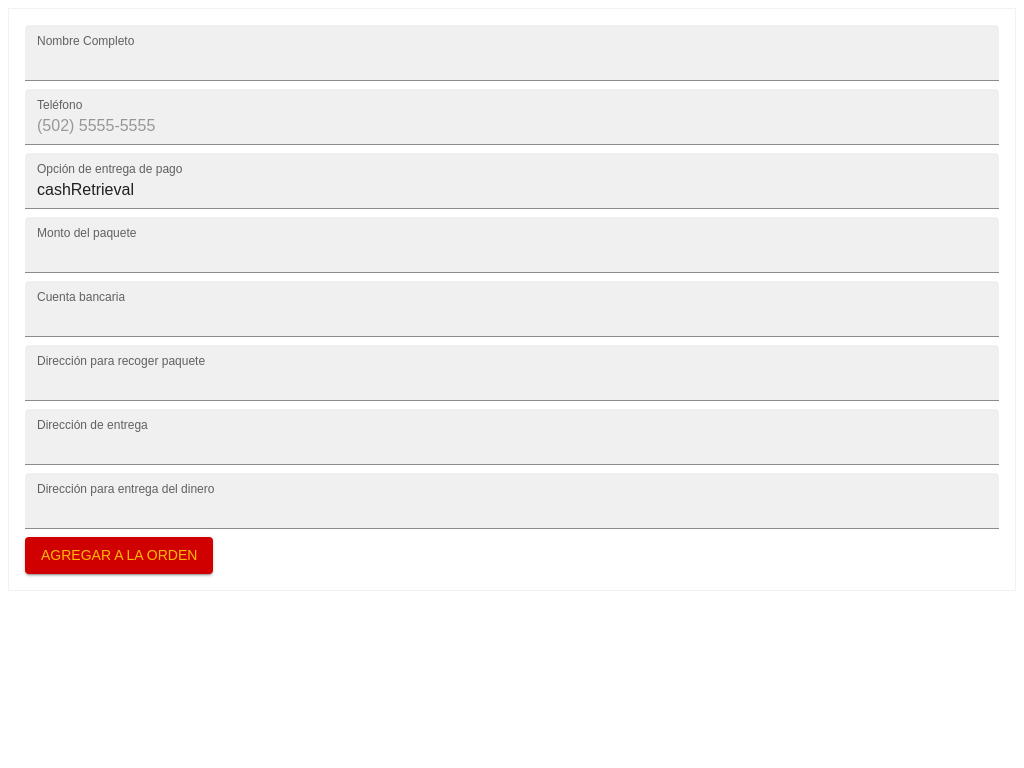
Test: presentation:components:organisms:package-form:control › It should fill the [Phone] field
In the field labelled "Teléfono": (512, 117) [25,89,999,145], type "5555-5555"
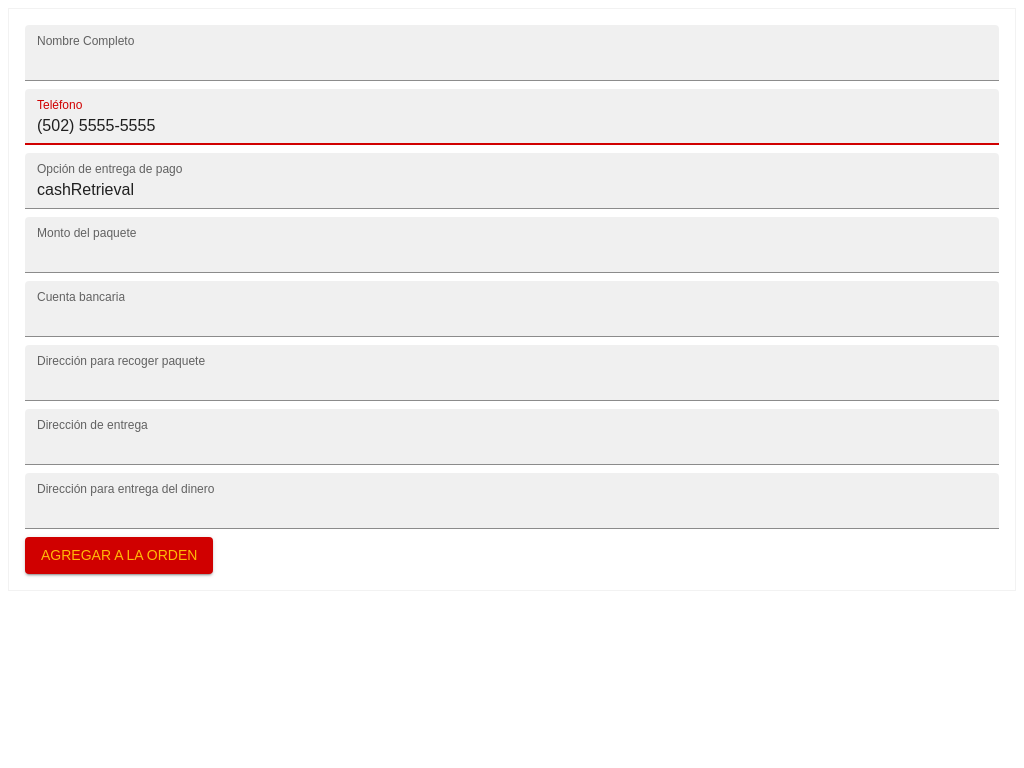
Check: the field labelled "Teléfono" holds "(502) 5555-5555", box [25,89,999,145]
